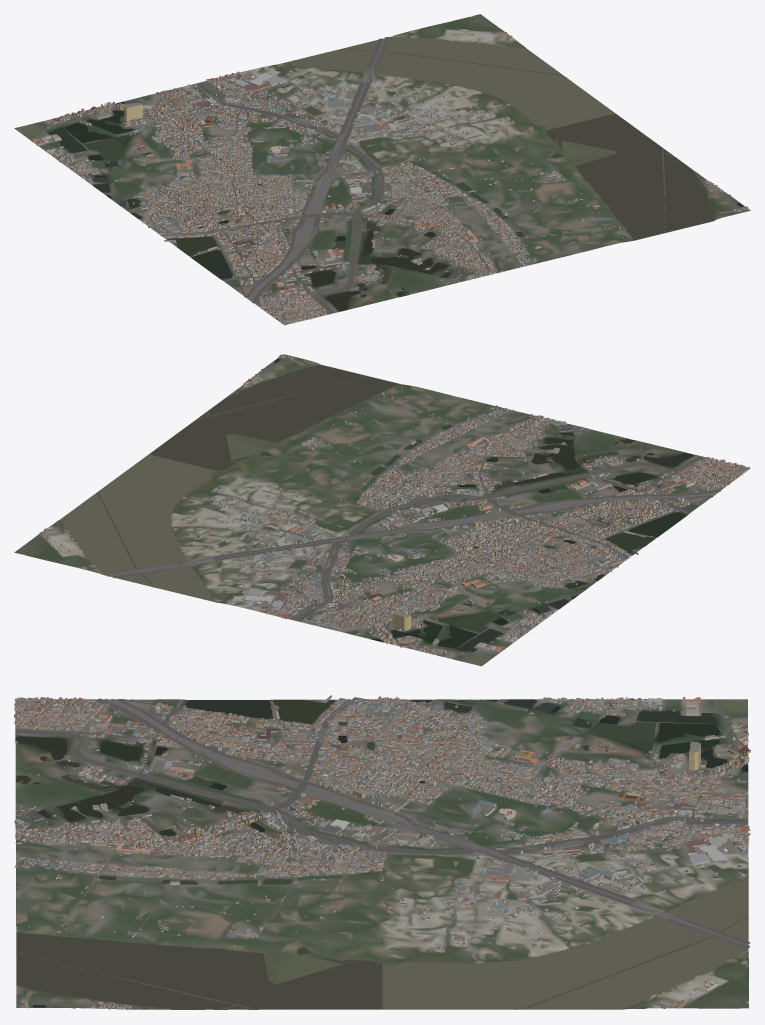
The picture shows the model from 3 angles, top to bottom: view 1: azimuth 30°, elevation 25°; view 2: azimuth 150°, elevation 25°; view 3: azimuth 270°, elevation 25°; orthographic projection. The views are drawn at different scales.
Parts seen in each view (by area): view 1: ground, buildings, water, roads; view 2: ground, buildings, water, roads; view 3: ground, buildings, water, roads.
Boxes of the visible parts, box(x1,y1,x2,y2) form: ground: box(14, 14, 750, 324); buildings: box(31, 29, 748, 324); water: box(47, 37, 744, 311); roads: box(26, 34, 749, 325); ground: box(14, 354, 750, 666); buildings: box(39, 354, 749, 656); water: box(54, 358, 693, 652); roads: box(46, 355, 746, 659); ground: box(15, 699, 748, 1009); buildings: box(14, 695, 750, 1009); water: box(16, 699, 748, 1009); roads: box(15, 698, 750, 1009).
Bounding box in the file's own units: 2831 × 83.47 × 2820.
